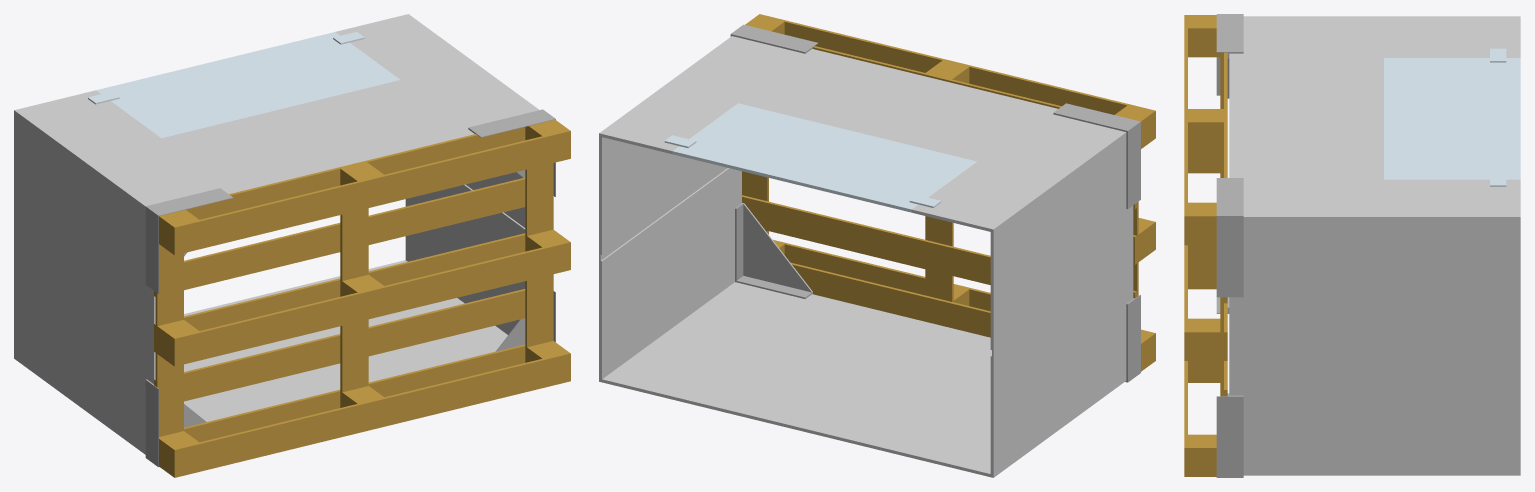
The model's file is ceinture + angle pose.glb.
3 renders of one model, left to right at view 1: azimuth 30°, elevation 25°; view 2: azimuth 150°, elevation 25°; view 3: azimuth 270°, elevation 25°, orthographic. The views are drawn at different scales.
Visible parts, largest first — view 1: Part 2, Part 3, Part 1, Part 7 (×4); view 2: Part 3, Part 2, Part 1, Part 7 (×4); view 3: Part 3, Part 1, Part 2, Part 7 (×3).
Part boxes in pixels (bbox=[...]): Part 2: bbox=[154, 119, 570, 477]; Part 3: bbox=[14, 14, 539, 454]; Part 1: bbox=[88, 32, 400, 138]; Part 7 (×4): bbox=[145, 109, 555, 467]; Part 3: bbox=[599, 36, 1133, 477]; Part 2: bbox=[742, 14, 1155, 371]; Part 1: bbox=[664, 103, 976, 212]; Part 7 (×4): bbox=[730, 24, 1140, 382]; Part 3: bbox=[1229, 16, 1520, 475]; Part 1: bbox=[1384, 48, 1520, 186]; Part 2: bbox=[1184, 15, 1227, 476]; Part 7 (×3): bbox=[1216, 14, 1243, 477].
Size of the model in its own units: 1.33 by 0.804 by 0.935.
